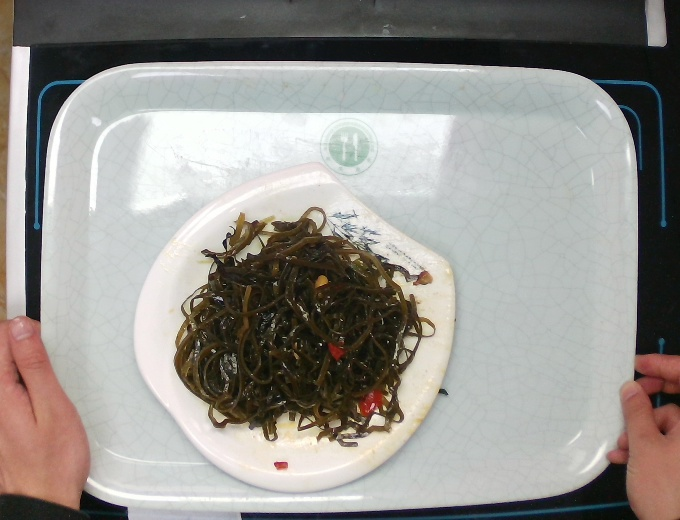JYsf-Mian_Pan: (120, 150, 469, 505)
